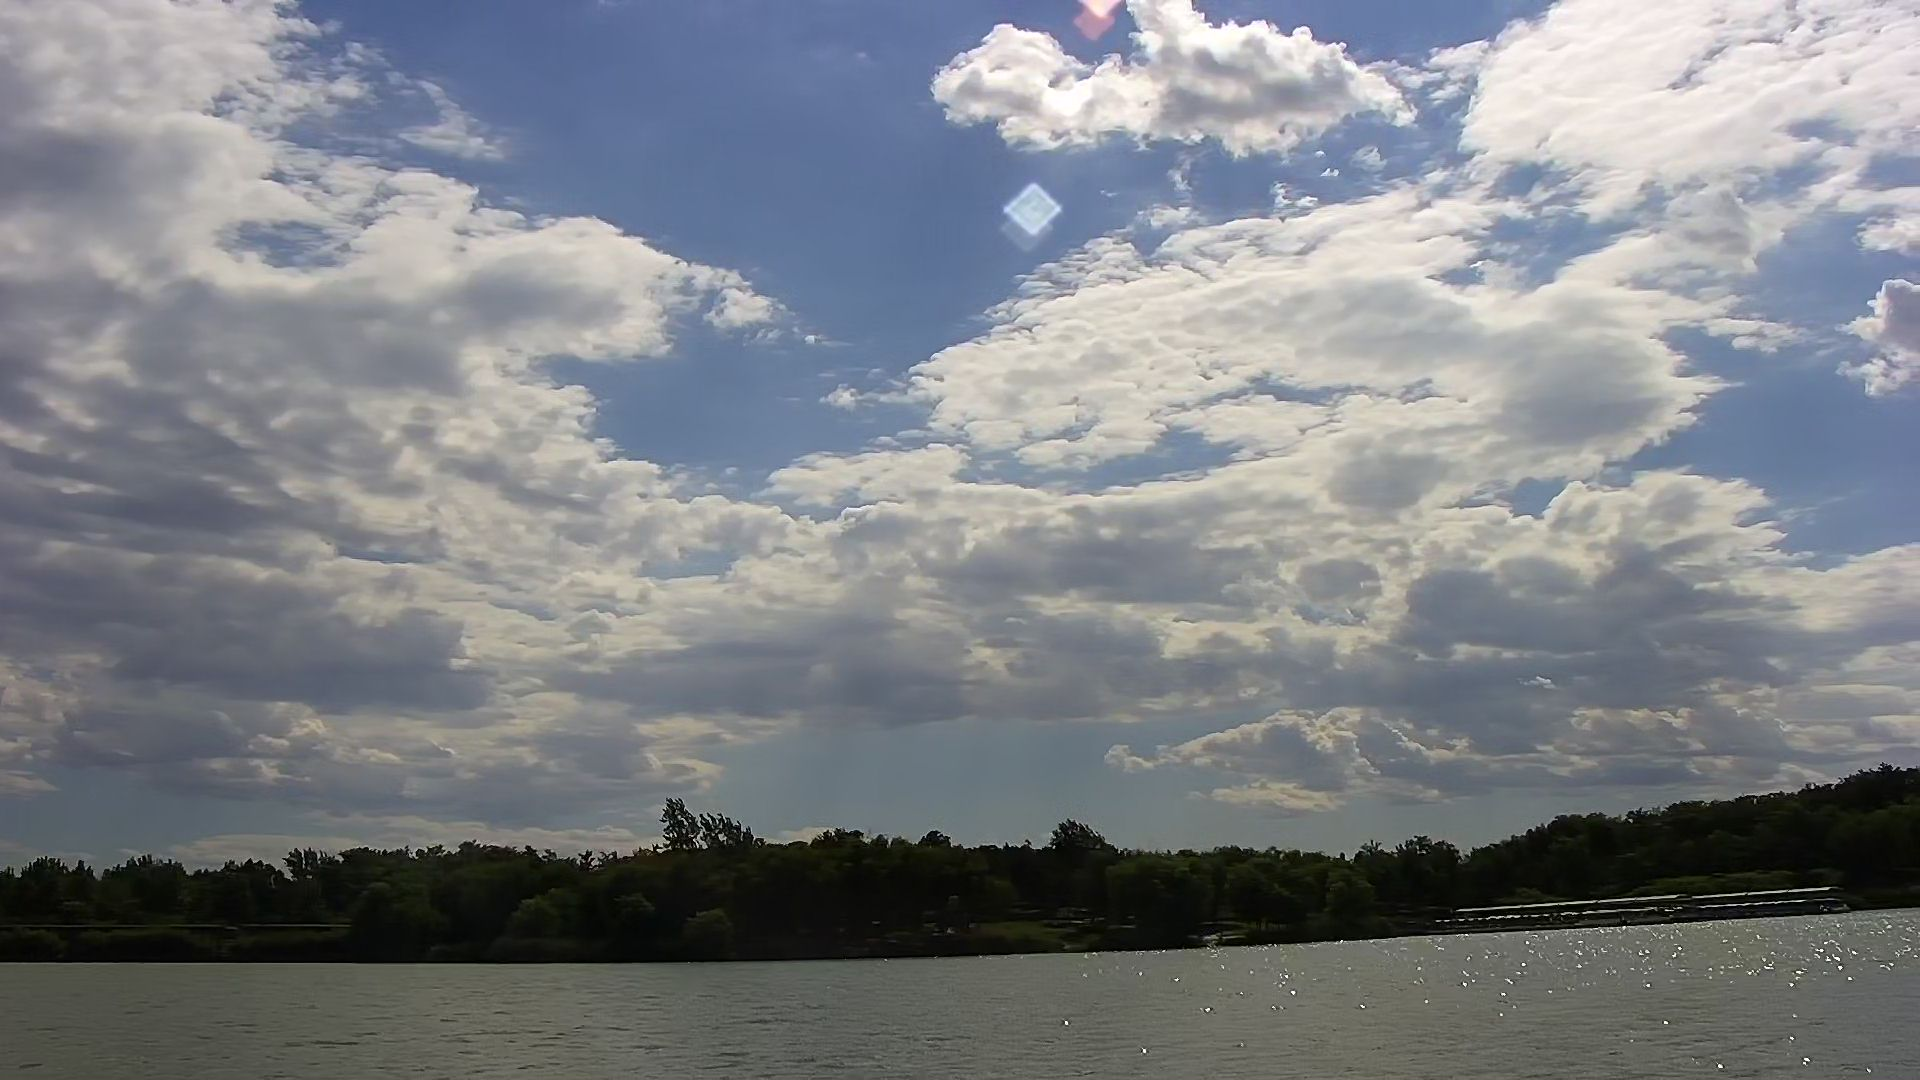harbor: (1432, 874, 1851, 931)
